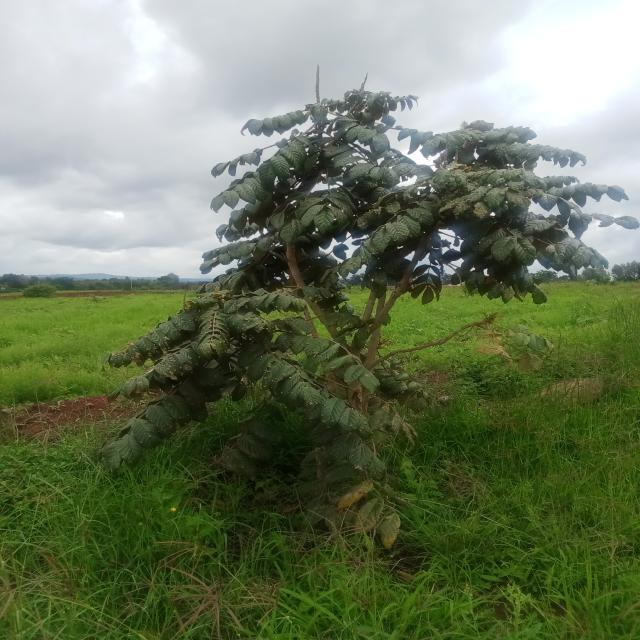Polyscias Kikuyensis: (110, 61, 627, 551)
